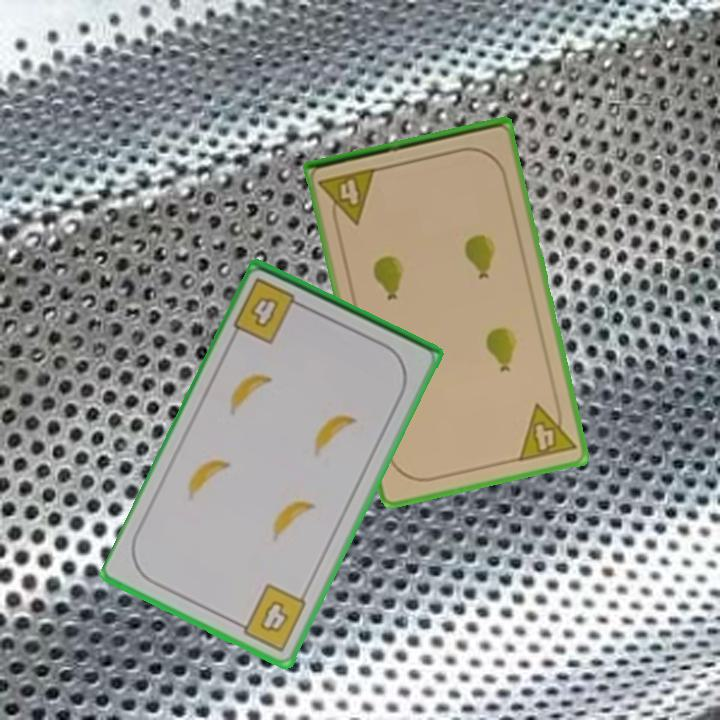4b: (231, 580, 310, 655), (230, 274, 310, 347)
4p: (514, 396, 579, 465), (315, 164, 380, 231)
